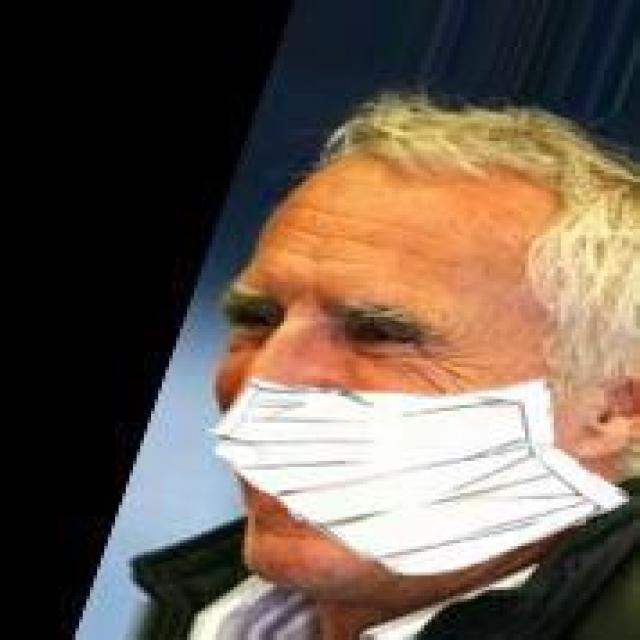mask: (244, 94, 636, 616)
